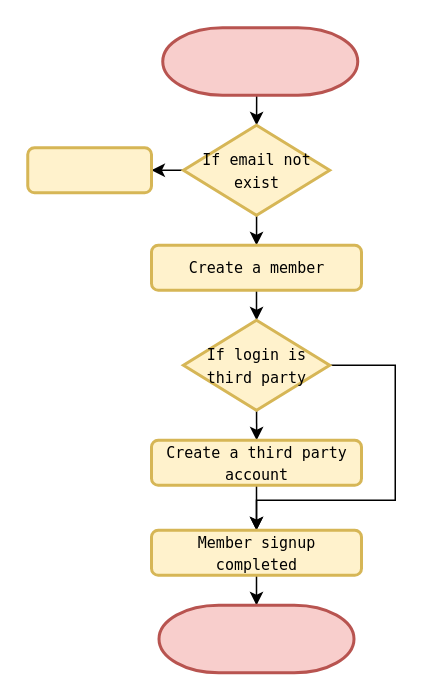
Some shapes in this 434 by 699 pixel diagram are drawn without their labels. Each missing label, with the centre of its shape:
Member signup end: (x=256, y=638)
Member signup start: (x=259, y=61)
Response 401: (x=89, y=170)
